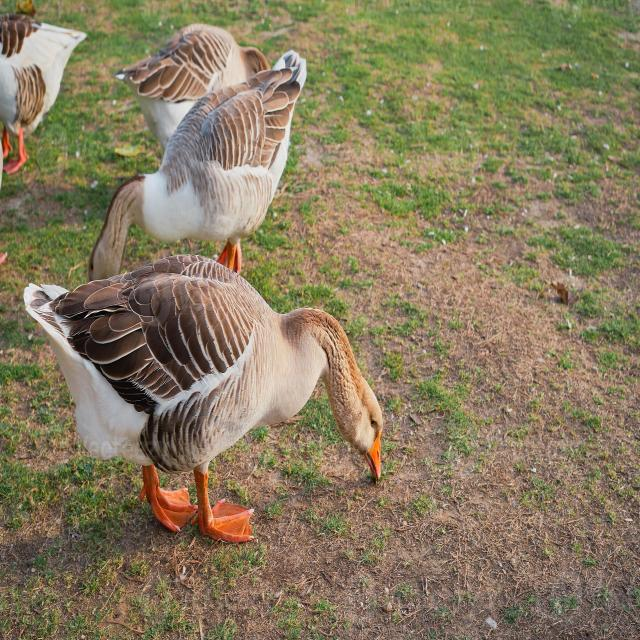Goose: (24, 247, 391, 553)
